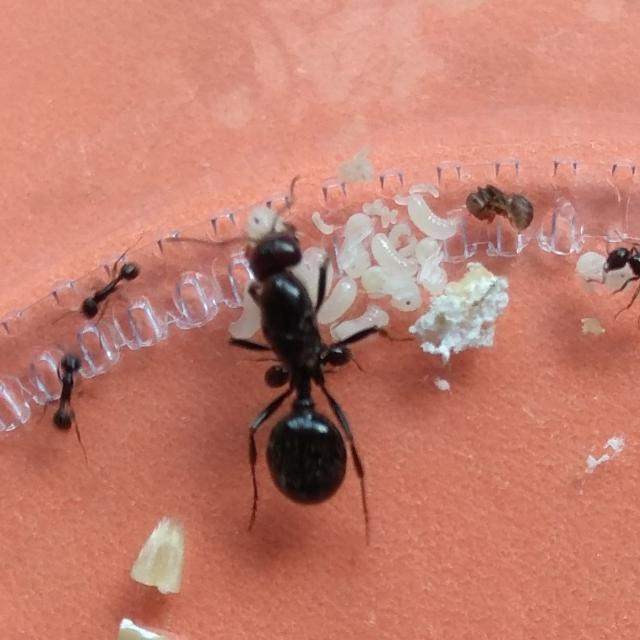ants: (218, 223, 370, 514), (71, 262, 155, 328), (456, 177, 542, 240), (40, 348, 94, 440)
